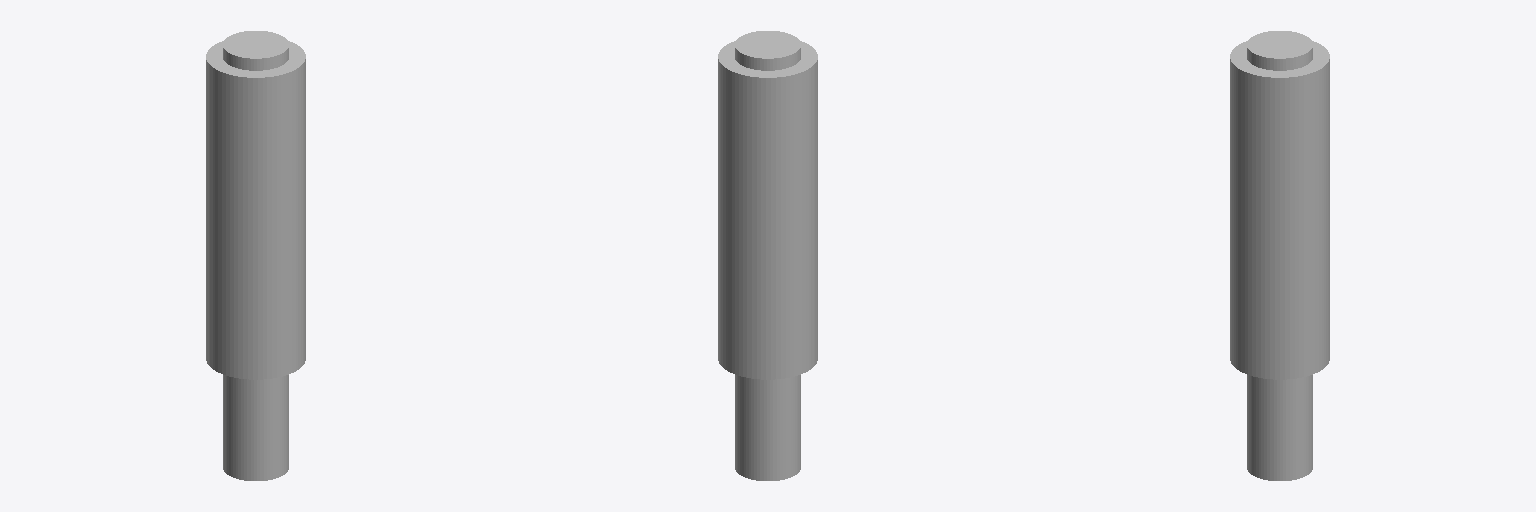
File: pin_contact.obj
3 views of the same model, side by side, from view 1: azimuth 30°, elevation 25°; view 2: azimuth 150°, elevation 25°; view 3: azimuth 270°, elevation 25° (orthographic).
Parts seen in each view (by area): view 1: Cylinder_Cylinder.001, Cylinder.001_Cylinder.002; view 2: Cylinder_Cylinder.001, Cylinder.001_Cylinder.002; view 3: Cylinder_Cylinder.001, Cylinder.001_Cylinder.002.
Part boxes in pixels (left/top/right/bottom): Cylinder_Cylinder.001: left=206, top=41, right=305, bottom=379; Cylinder.001_Cylinder.002: left=223, top=31, right=288, bottom=480; Cylinder_Cylinder.001: left=718, top=41, right=817, bottom=379; Cylinder.001_Cylinder.002: left=735, top=31, right=800, bottom=480; Cylinder_Cylinder.001: left=1230, top=41, right=1329, bottom=379; Cylinder.001_Cylinder.002: left=1247, top=31, right=1312, bottom=480.
Size of the model in its own units: 0.15 by 0.7 by 0.15.